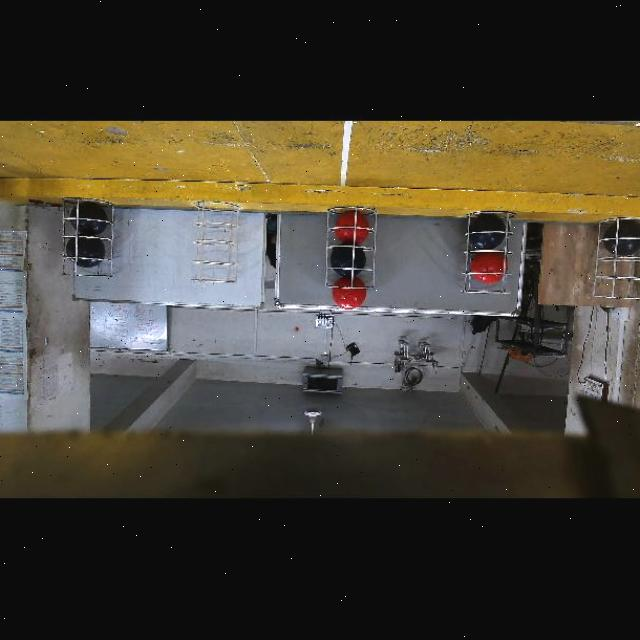P: (602, 218, 640, 255), (68, 201, 108, 236), (471, 212, 506, 249), (68, 234, 107, 267), (331, 244, 366, 278)
R: (472, 249, 505, 284), (332, 275, 367, 308), (336, 211, 370, 244)
S: (59, 196, 121, 280), (456, 214, 516, 294), (324, 202, 378, 290), (590, 215, 640, 305), (188, 213, 246, 287)
